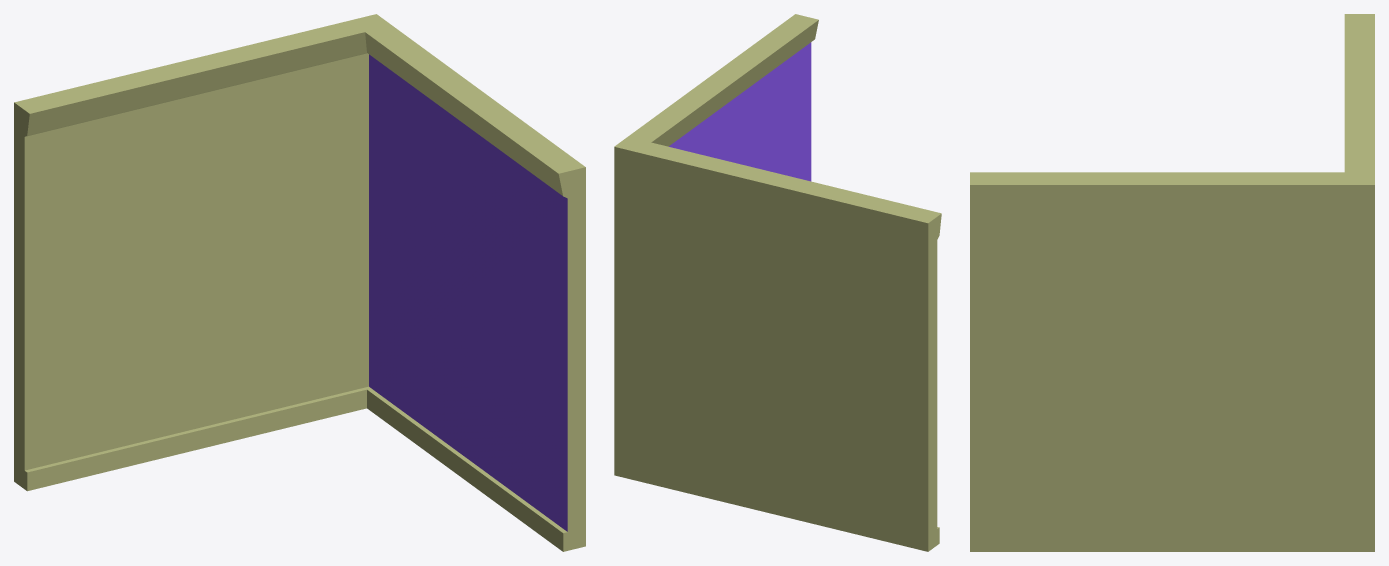
The model's file is Wal_4_3.fbx.
3 views of the same model, side by side, from view 1: azimuth 30°, elevation 25°; view 2: azimuth 150°, elevation 25°; view 3: azimuth 270°, elevation 25° (orthographic). The views are drawn at different scales.
Visible parts, largest first — view 1: polySurface1959; view 2: polySurface1959; view 3: polySurface1959.
Boxes of the visible parts, box(x1,y1,x2,y2) form: polySurface1959: box(14, 14, 585, 551); polySurface1959: box(614, 14, 941, 551); polySurface1959: box(970, 14, 1374, 551).
Size of the model in its own units: 4 by 4 by 4.
1 material, 1 textured.
